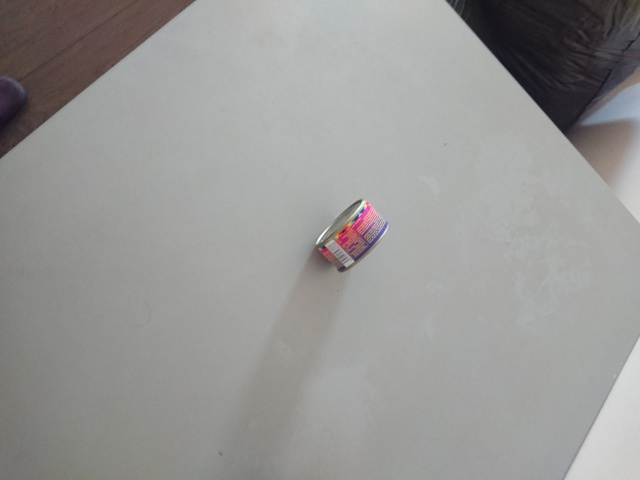Giana Tuna Salad Mexico 185g: (313, 196, 390, 276)
